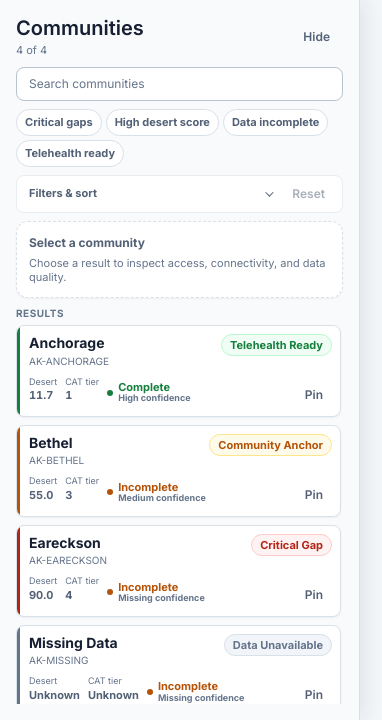
Sidebar discovery › pinning persists to localStorage and caps at three communities
Step 1. Click the button with aria-label "Pin Anchorage" → click(314, 396), box left=296, top=383, right=332, bottom=408
(page scrolled)
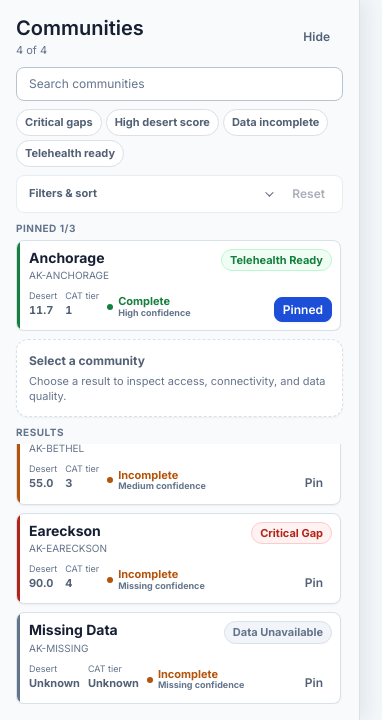
Step 2. Click the button with aria-label "Pin Eareckson" → click(314, 583), box left=296, top=570, right=332, bottom=595
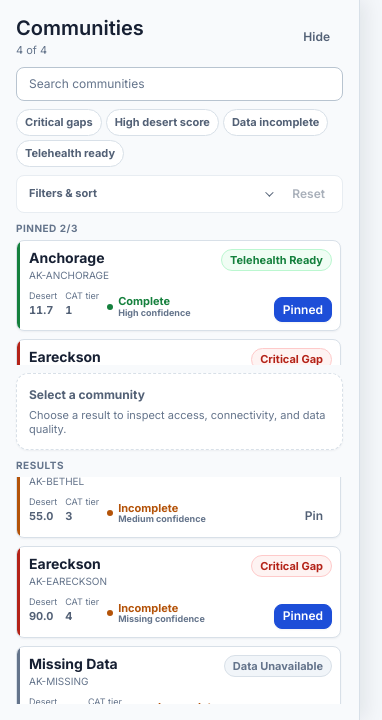
Step 3. Click the button with aria-label "Pin Bethel" → click(314, 516), box left=296, top=504, right=332, bottom=529
(page scrolled)
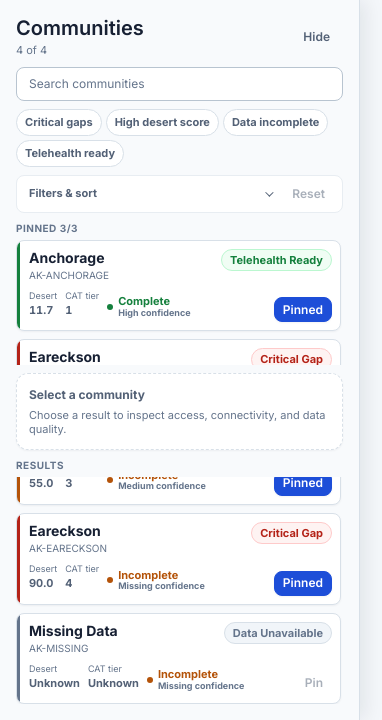
Result: the button with aria-label "Pin Missing Data" is disabled at left=296, top=670, right=332, bottom=695
